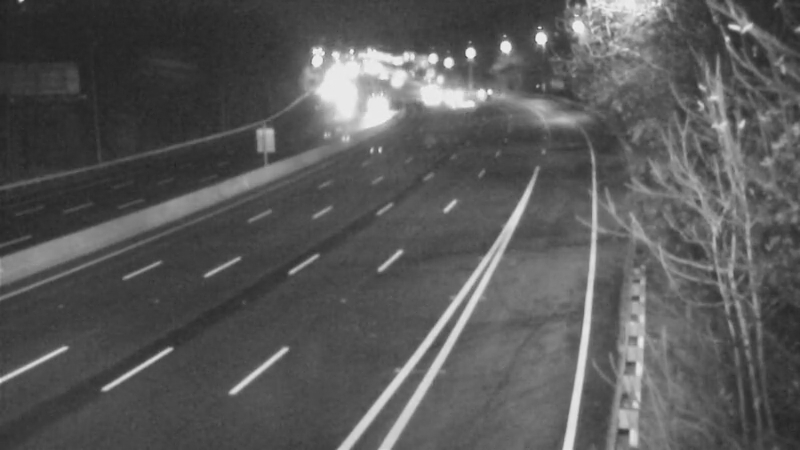vehicle: (461, 66, 511, 116), (435, 80, 485, 130), (351, 86, 401, 136)
